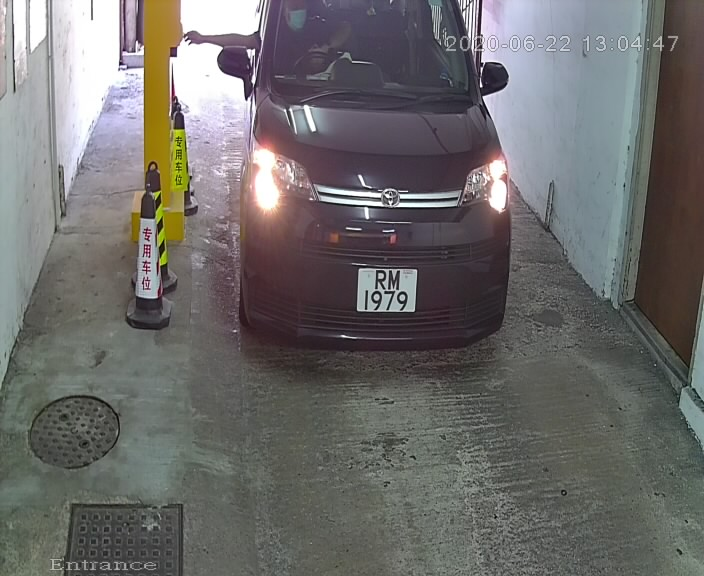privatecar: (201, 1, 531, 361)
